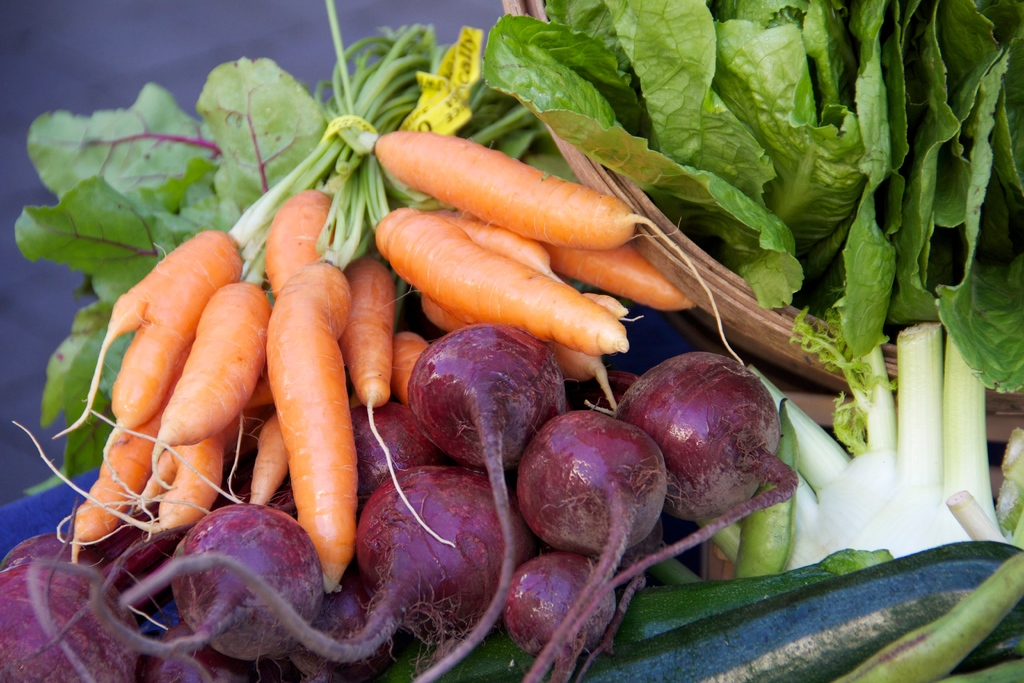Carrot: (10, 0, 746, 597)
